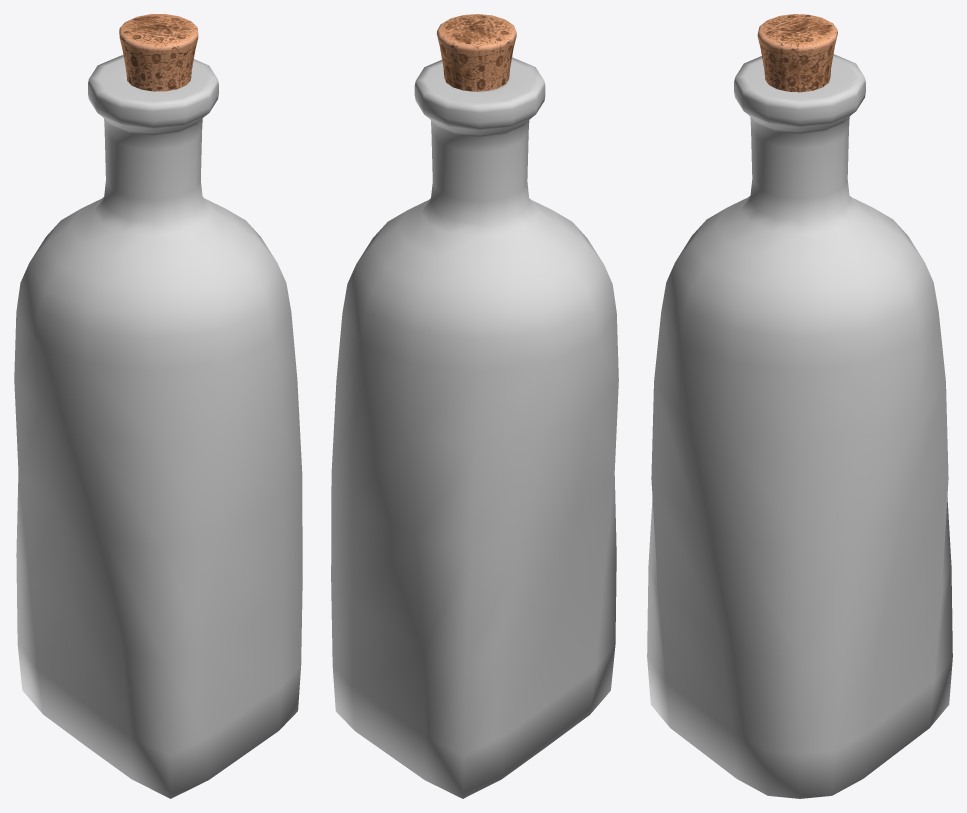
The model's file is Bottle_E.fbx.
3 renders of one model, left to right at view 1: azimuth 30°, elevation 25°; view 2: azimuth 150°, elevation 25°; view 3: azimuth 270°, elevation 25°, orthographic.
Parts seen in each view (by area): view 1: Bottle_04; view 2: Bottle_04; view 3: Bottle_04.
Boxes of the visible parts, left/top/right/bottom form: Bottle_04: left=14, top=14, right=302, bottom=798; Bottle_04: left=331, top=14, right=618, bottom=798; Bottle_04: left=647, top=14, right=952, bottom=798.
Size of the model in its own units: 50.21 by 133 by 51.8.
